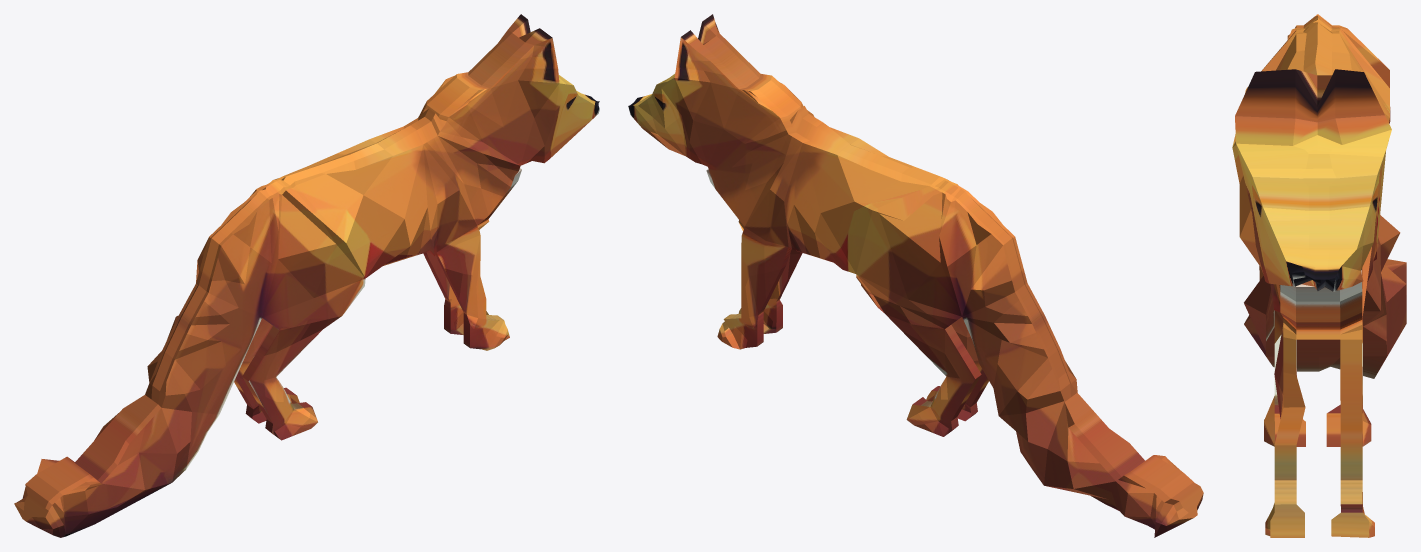
The model's file is fox3dlight.glb.
The picture shows the model from 3 angles, left to right: view 1: azimuth 30°, elevation 25°; view 2: azimuth 150°, elevation 25°; view 3: azimuth 270°, elevation 25°; orthographic projection. The views are drawn at different scales.
Visible parts, largest first — view 1: Plane.001; view 2: Plane.001; view 3: Plane.001.
Boxes of the visible parts, bbox=[...] form: Plane.001: bbox=[14, 14, 599, 537]; Plane.001: bbox=[628, 14, 1203, 537]; Plane.001: bbox=[1232, 14, 1406, 537].
Bounding box in the file's own units: 1.66 × 1.09 × 0.2587.
Materials: 1 (1 with a texture image).
